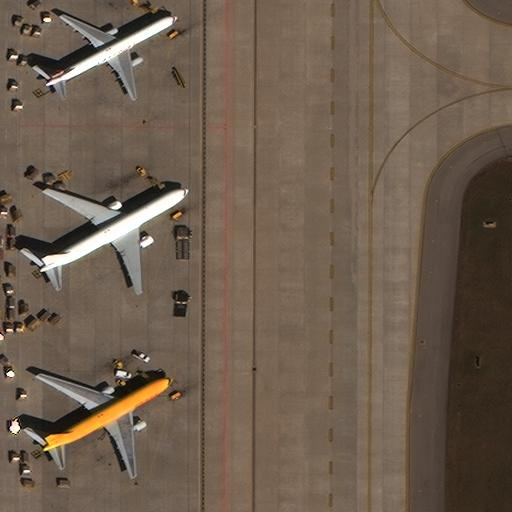Large Civil Transport: (38, 186, 189, 293), (39, 372, 173, 476), (45, 13, 177, 98)
